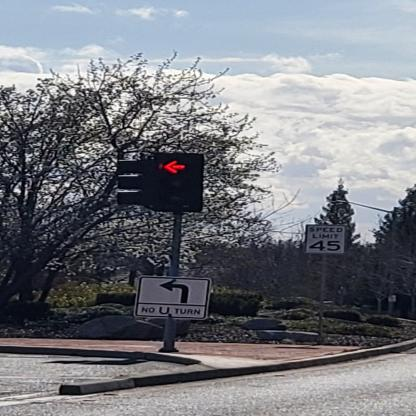left-red: (155, 153, 201, 211)
